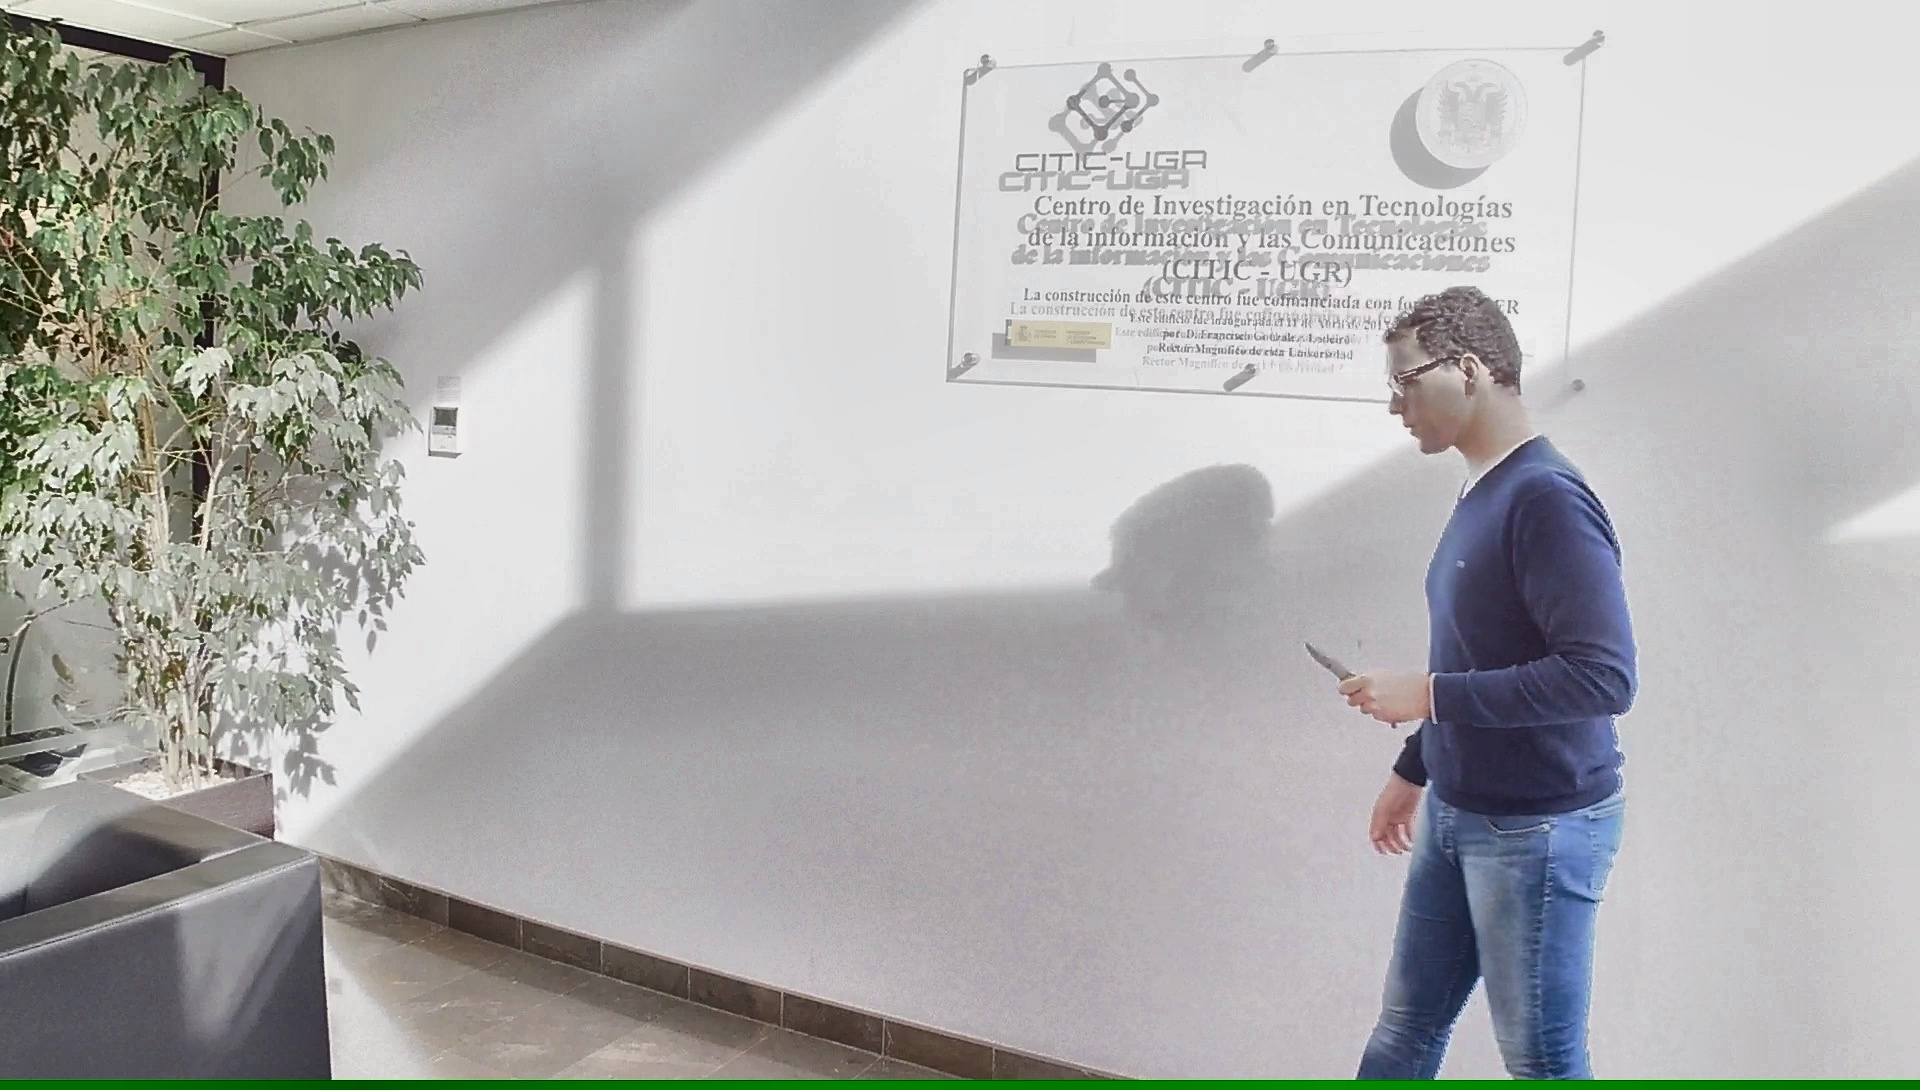knife: (1294, 633, 1404, 731)
